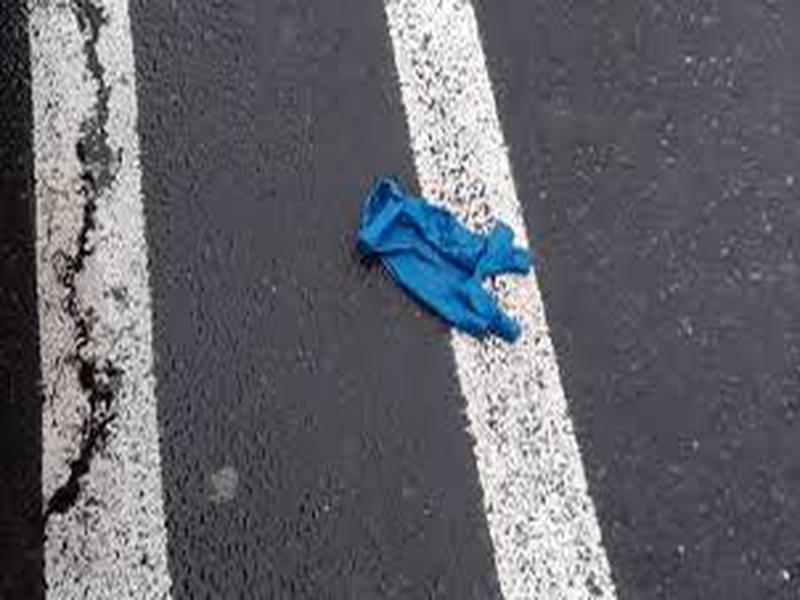gloves: (337, 170, 540, 347)
